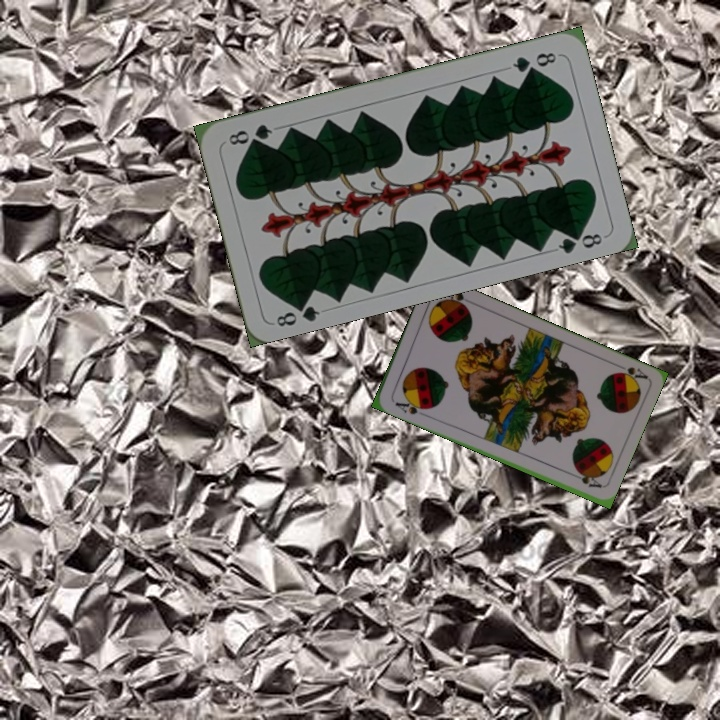G8: (272, 296, 322, 330), (508, 48, 559, 76)
SA: (610, 359, 649, 384), (391, 395, 430, 417)
